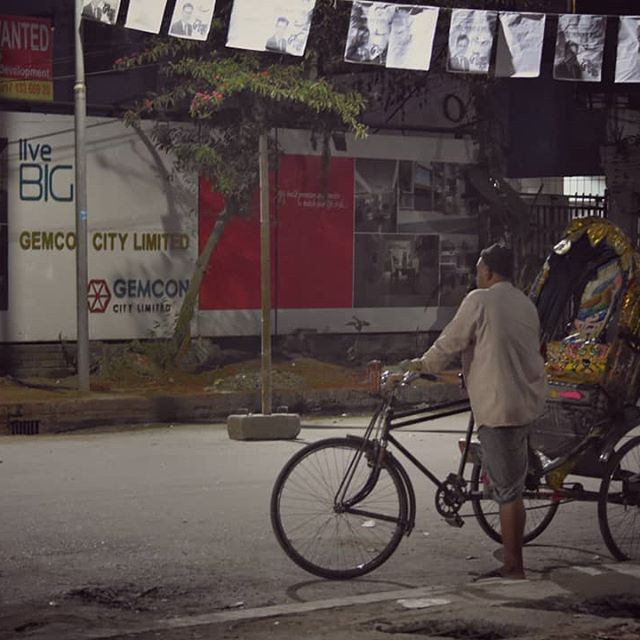Rickshaw: (308, 215, 638, 604)
